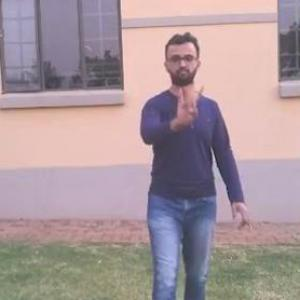takeoff-hand: (168, 82, 201, 137)
